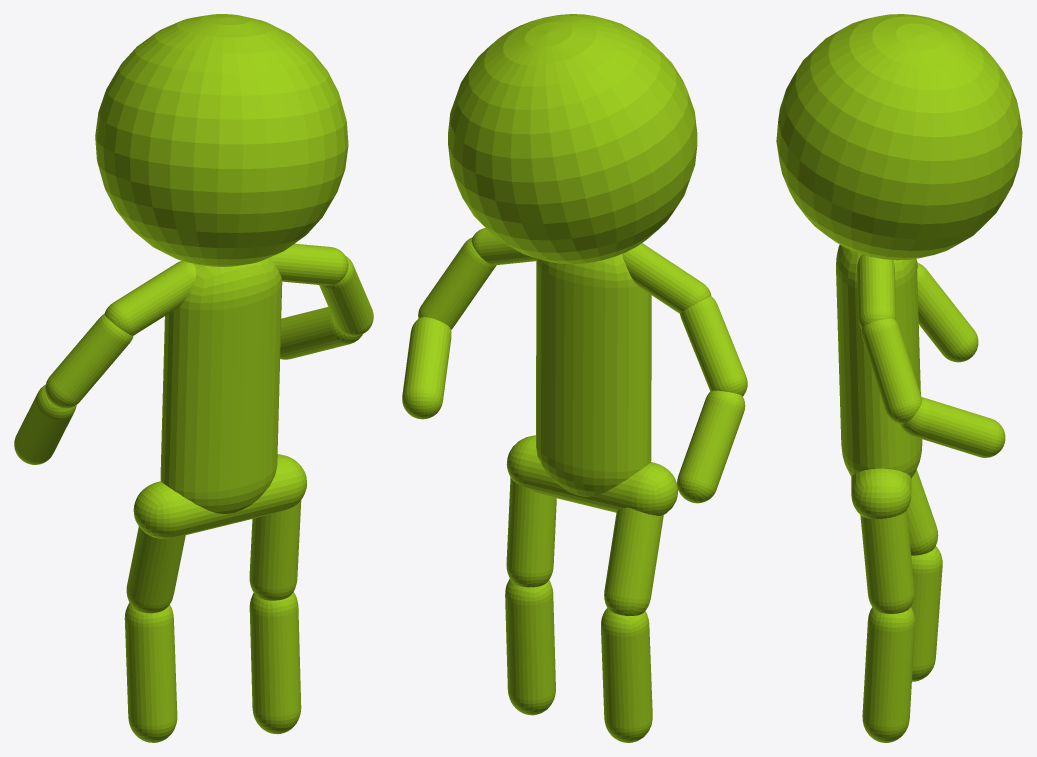
The model's file is Stickman_000039.obj.
The picture shows the model from 3 angles, left to right: view 1: azimuth 30°, elevation 25°; view 2: azimuth 150°, elevation 25°; view 3: azimuth 270°, elevation 25°; orthographic projection. The views are drawn at different scales.
Visible parts, largest first — view 1: Head_Sphere.001, Body_Roundcube.002, LowerLegLeft_Roundcube.013, LowerLegRight_Roundcube.011, Hip_Roundcube.005, UpperLegLeft_Roundcube.012, UpperArmRight_Roundcube.015, UpperLegRight_Roundcube.010, ShoulderRight_Roundcube.014, LowerArmRight_Roundcube.016, LowerArmLeft_Roundcube.019, ShoulderLeft_Roundcube.017 (+1 smaller); view 2: Head_Sphere.001, Body_Roundcube.002, LowerLegLeft_Roundcube.013, LowerLegRight_Roundcube.011, Hip_Roundcube.005, UpperLegRight_Roundcube.010, LowerArmRight_Roundcube.016, UpperLegLeft_Roundcube.012, LowerArmLeft_Roundcube.019, UpperArmRight_Roundcube.015, UpperArmLeft_Roundcube.018, ShoulderRight_Roundcube.014 (+1 smaller); view 3: Head_Sphere.001, Body_Roundcube.002, LowerLegLeft_Roundcube.013, UpperLegLeft_Roundcube.012, UpperArmLeft_Roundcube.018, LowerArmLeft_Roundcube.019, LowerArmRight_Roundcube.016, LowerLegRight_Roundcube.011, Hip_Roundcube.005, ShoulderLeft_Roundcube.017, UpperLegRight_Roundcube.010.
Part boxes in pixels (x1,y1,x2,y2): Head_Sphere.001: (95,14,348,266); Body_Roundcube.002: (160,257,282,513); LowerLegLeft_Roundcube.013: (249,592,301,734); LowerLegRight_Roundcube.011: (124,603,177,742); Hip_Roundcube.005: (133,454,306,538); UpperLegLeft_Roundcube.012: (249,500,301,600); UpperArmRight_Roundcube.015: (45,314,133,408); UpperLegRight_Roundcube.010: (126,526,185,613); ShoulderRight_Roundcube.014: (104,261,196,335); LowerArmRight_Roundcube.016: (14,384,76,464); LowerArmLeft_Roundcube.019: (280,307,362,359); ShoulderLeft_Roundcube.017: (269,243,348,285); Head_Sphere.001: (448,14,697,264); Body_Roundcube.002: (536,254,651,496); LowerLegLeft_Roundcube.013: (505,579,555,715); LowerLegRight_Roundcube.011: (601,608,652,742); Hip_Roundcube.005: (506,435,678,515); UpperLegRight_Roundcube.010: (604,507,663,615); LowerArmRight_Roundcube.016: (677,390,745,503); UpperLegLeft_Roundcube.012: (506,477,556,587); LowerArmLeft_Roundcube.019: (402,317,451,419); UpperArmRight_Roundcube.015: (680,296,747,396); UpperArmLeft_Roundcube.018: (418,237,496,329); ShoulderRight_Roundcube.014: (622,243,711,313); Head_Sphere.001: (776,14,1022,260); Body_Roundcube.002: (836,245,922,477); LowerLegLeft_Roundcube.013: (862,607,915,742); UpperLegLeft_Roundcube.012: (860,510,914,613); UpperArmLeft_Roundcube.018: (861,318,922,424); LowerArmLeft_Roundcube.019: (900,397,1005,457); LowerArmRight_Roundcube.016: (917,263,978,362); LowerLegRight_Roundcube.011: (910,546,942,681); Hip_Roundcube.005: (851,468,911,519); ShoulderLeft_Roundcube.017: (857,254,895,329); UpperLegRight_Roundcube.010: (907,469,938,555).
Size of the model in its own units: 5.53 by 11.44 by 3.68.
